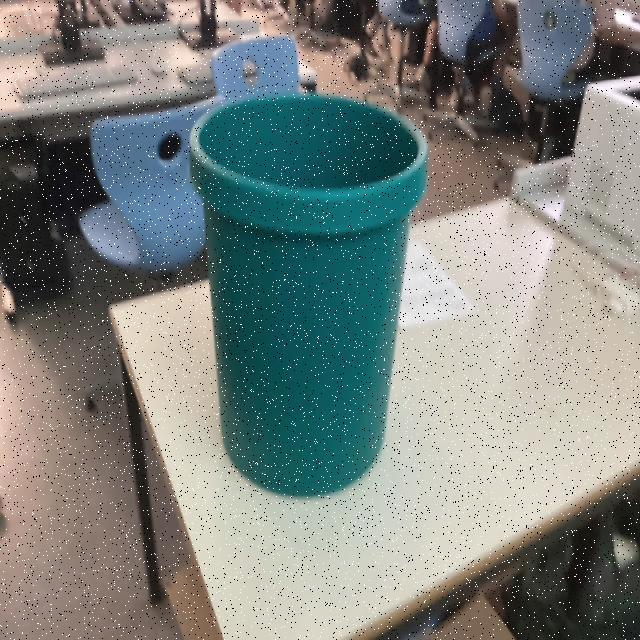garbage container: (181, 75, 437, 518)
